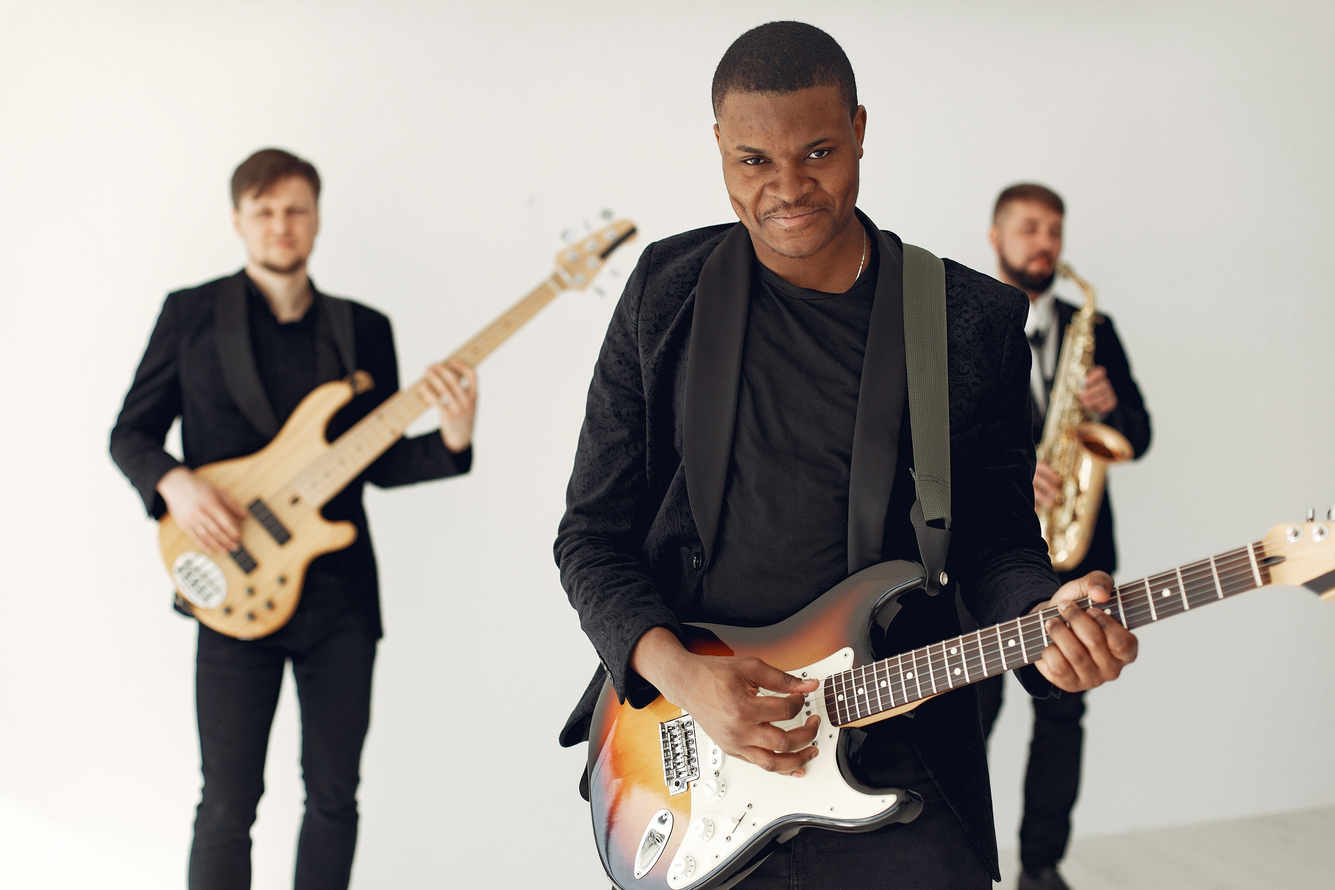acousticguitar: (586, 507, 1334, 887), (151, 215, 639, 648)
